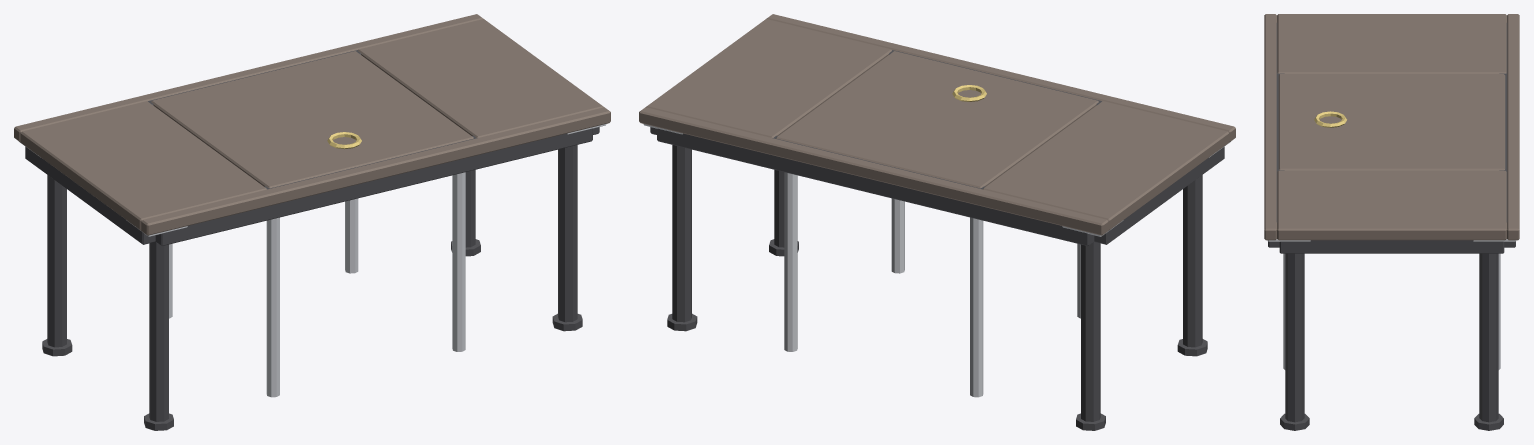
Rendered from theatre-stage-and-backstage-stage-trap-section-c946022f.glb.
The picture shows the model from 3 angles, left to right: view 1: azimuth 30°, elevation 25°; view 2: azimuth 150°, elevation 25°; view 3: azimuth 270°, elevation 25°; orthographic projection. The views are drawn at different scales.
Visible parts, largest first — view 1: stage-trap-section, trap; view 2: stage-trap-section, trap; view 3: stage-trap-section, trap, trap/gilt.
Part boxes in pixels (bbox=[...]): stage-trap-section: bbox=[14, 14, 610, 430]; trap: bbox=[151, 51, 473, 188]; stage-trap-section: bbox=[639, 14, 1235, 430]; trap: bbox=[776, 51, 1098, 188]; stage-trap-section: bbox=[1264, 14, 1519, 430]; trap: bbox=[1278, 74, 1505, 170]; trap/gilt: bbox=[1314, 111, 1346, 127].
Size of the model in its own units: 2 by 0.9155 by 1.
